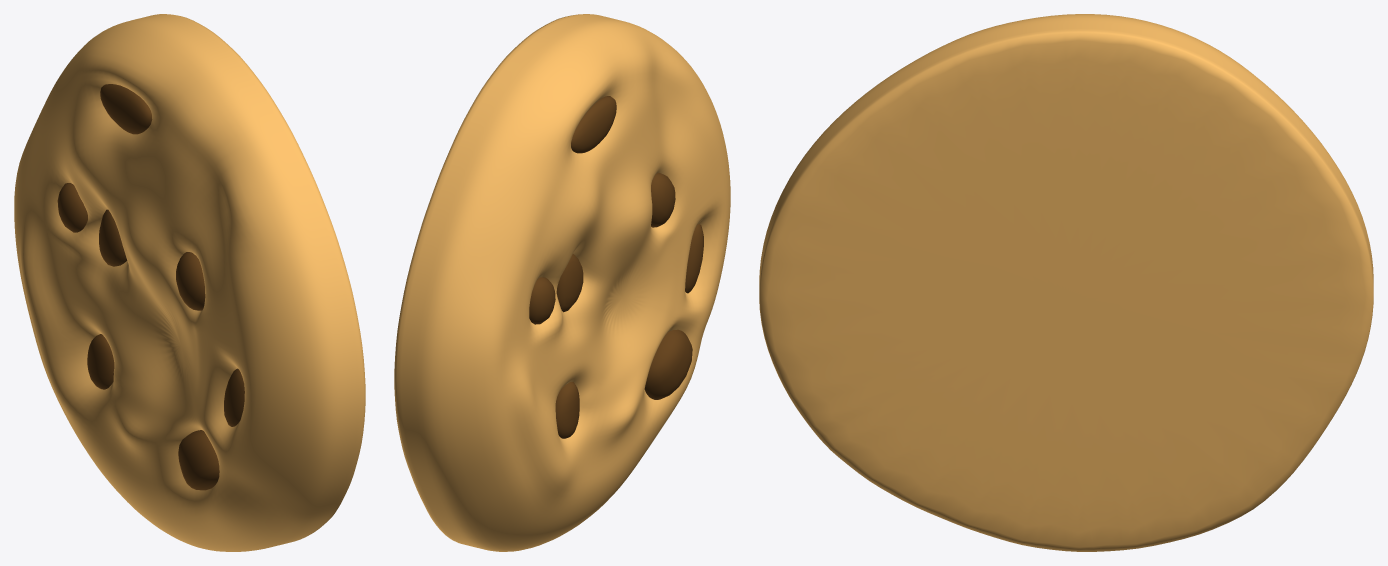
The model's file is chocolate_chip_cookie.glb.
3 views of the same model, side by side, from view 1: azimuth 30°, elevation 25°; view 2: azimuth 150°, elevation 25°; view 3: azimuth 270°, elevation 25° (orthographic). The views are drawn at different scales.
Visible parts, largest first — view 1: Circle_6; view 2: Circle_6; view 3: Circle_6.
Part boxes in pixels (bbox=[...]): Circle_6: bbox=[14, 14, 365, 551]; Circle_6: bbox=[394, 14, 730, 551]; Circle_6: bbox=[759, 14, 1373, 551].
Bounding box in the file's own units: 0.2459 × 1.13 × 1.21.
